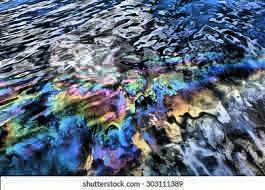rainbow: (0, 70, 221, 176)
sheen: (0, 1, 153, 84)
